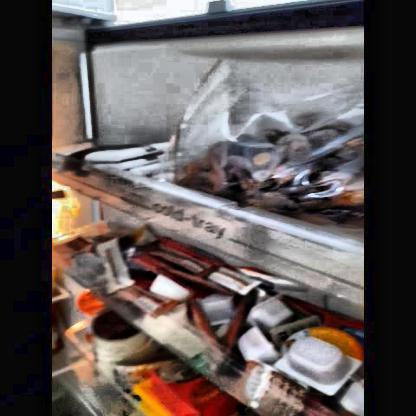butter: (140, 368, 230, 416)
dates: (191, 112, 365, 221)
